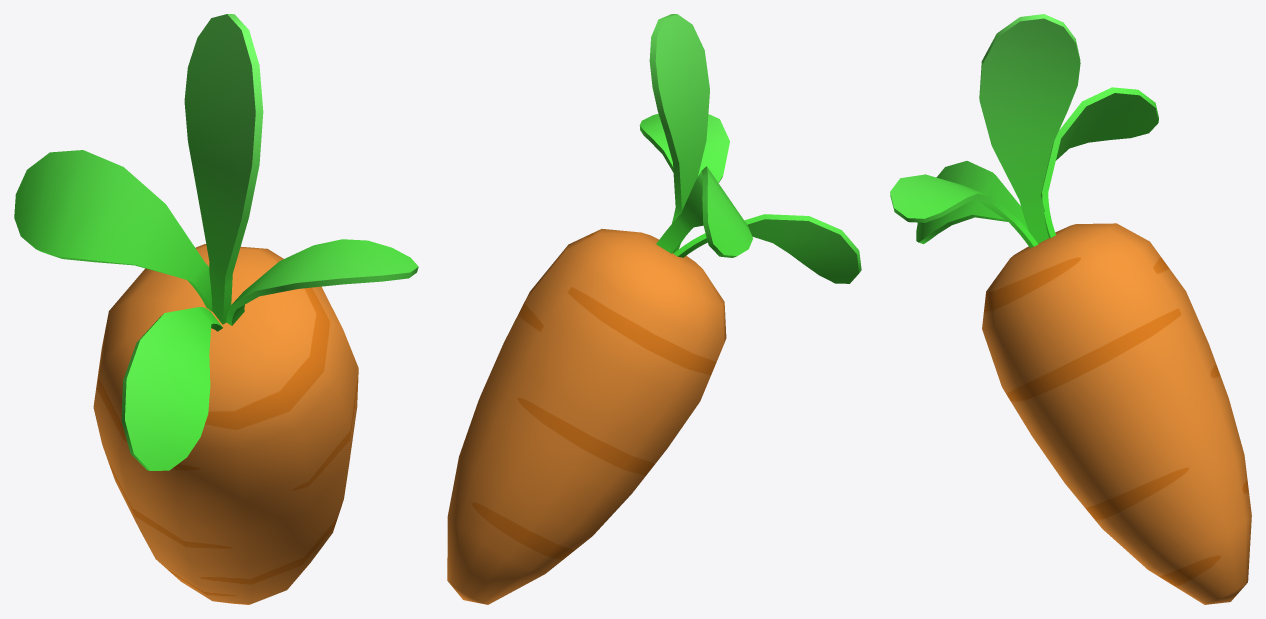
The model's file is carrot.fbx.
3 views of the same model, side by side, from view 1: azimuth 30°, elevation 25°; view 2: azimuth 150°, elevation 25°; view 3: azimuth 270°, elevation 25° (orthographic). The views are drawn at different scales.
Visible parts, largest first — view 1: carrot_body, leaves; view 2: carrot_body, leaves; view 3: carrot_body, leaves.
Boxes of the visible parts, box(x1,y1,x2,y2) form: carrot_body: box(93, 244, 358, 604); leaves: box(14, 14, 418, 470); carrot_body: box(447, 229, 726, 604); leaves: box(639, 14, 861, 283); carrot_body: box(982, 223, 1251, 604); leaves: box(890, 14, 1158, 247).
Size of the model in its own units: 89.35 by 169 by 102.
